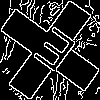E: (25, 25, 79, 82)
